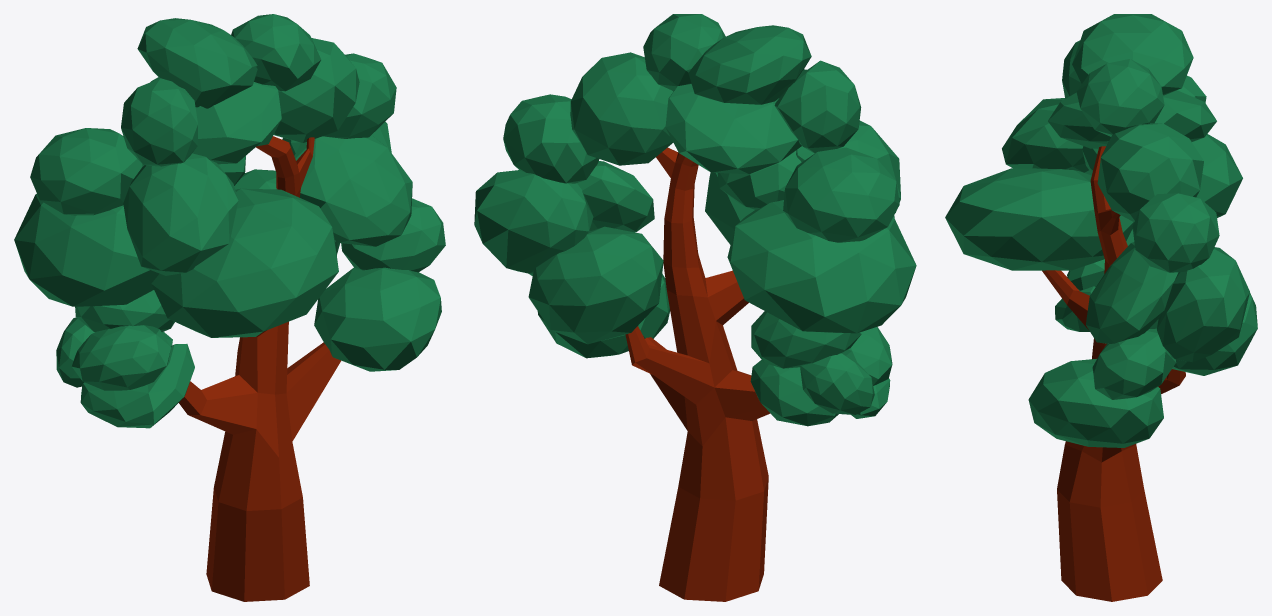
File: Oak_Folhas_Verde_Escuro.fbx
The picture shows the model from 3 angles, left to right: view 1: azimuth 30°, elevation 25°; view 2: azimuth 150°, elevation 25°; view 3: azimuth 270°, elevation 25°; orthographic projection. The views are drawn at different scales.
Visible parts, largest first — view 1: Oak_Folhas_Verde_Escuro; view 2: Oak_Folhas_Verde_Escuro; view 3: Oak_Folhas_Verde_Escuro.
Boxes of the visible parts, x1,y1,x2,y2 form: Oak_Folhas_Verde_Escuro: [14, 14, 445, 601]; Oak_Folhas_Verde_Escuro: [474, 14, 916, 601]; Oak_Folhas_Verde_Escuro: [945, 14, 1257, 601].
Bounding box in the file's own units: 396 × 531 × 284.
